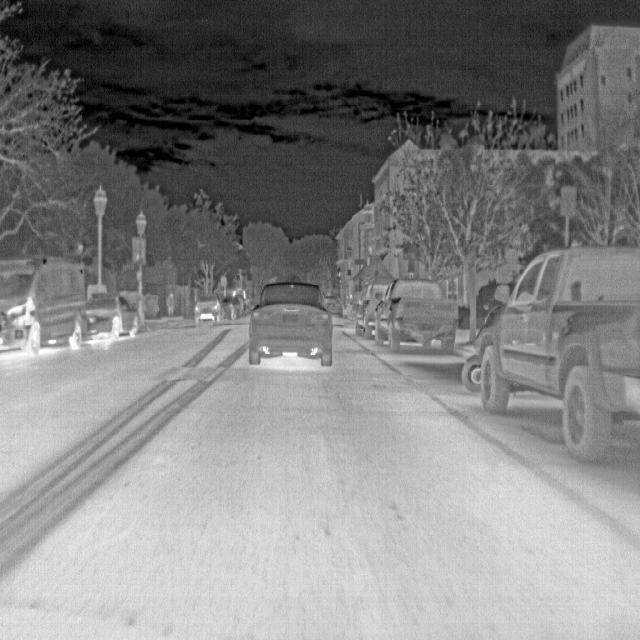Vehicle: (473, 240, 639, 466), (0, 251, 86, 360), (246, 278, 335, 370), (374, 276, 460, 356), (81, 290, 140, 343), (193, 293, 225, 324)
